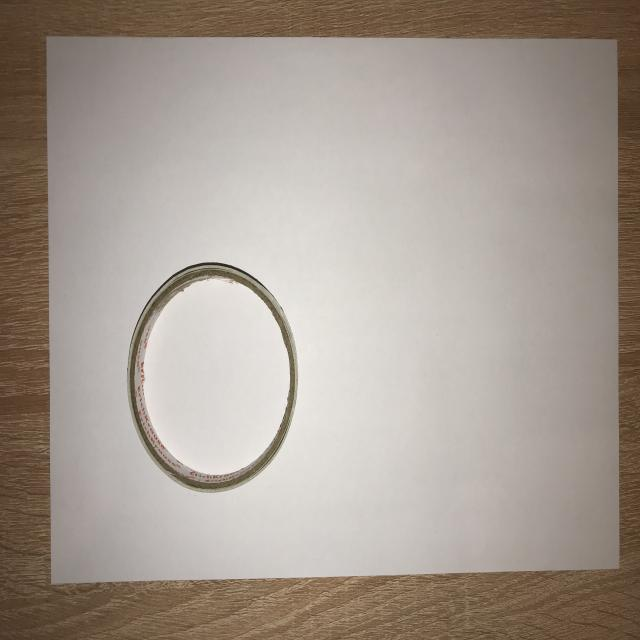scotch: (122, 256, 304, 497)
